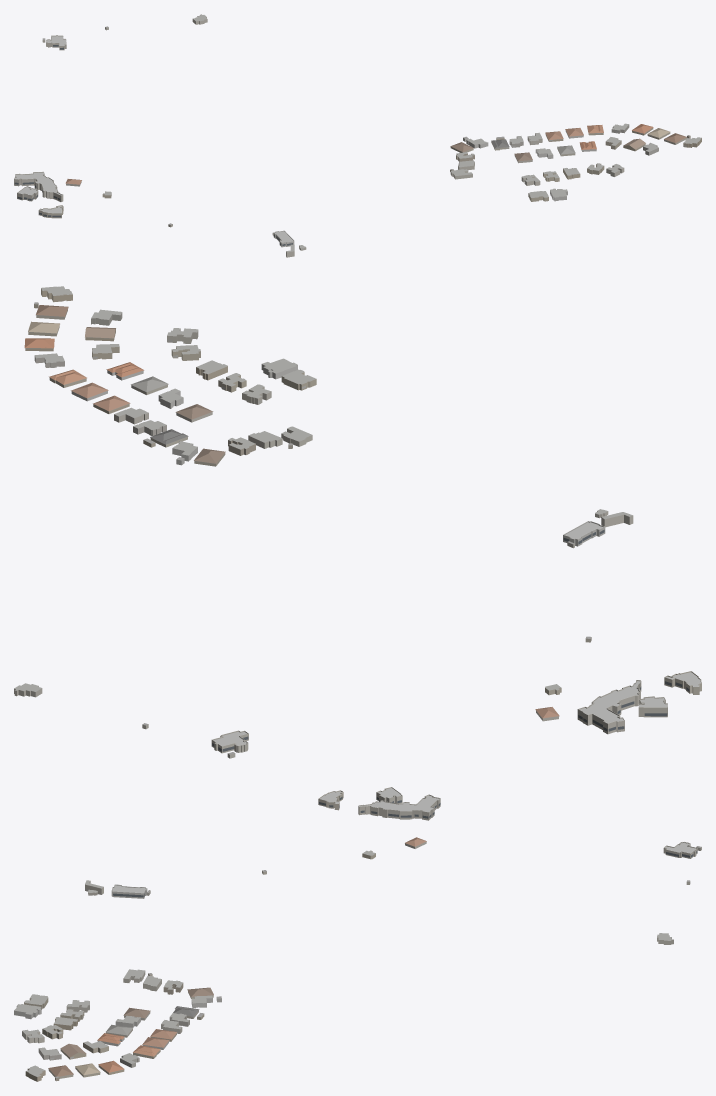
The model's file is buildings_r0_c1.glb.
3 views of the same model, one above another, from view 1: azimuth 30°, elevation 25°; view 2: azimuth 150°, elevation 25°; view 3: azimuth 270°, elevation 25° (orthographic). The views are drawn at different scales.
Parts seen in each view (by area): view 1: buildings_r0_c1; view 2: buildings_r0_c1; view 3: buildings_r0_c1.
Boxes of the visible parts, x1,y1,x2,y2 form: buildings_r0_c1: (14, 14, 701, 257); buildings_r0_c1: (14, 286, 701, 758); buildings_r0_c1: (14, 787, 701, 1081).
Bounding box in the file's own units: 898 × 77.94 × 803.
